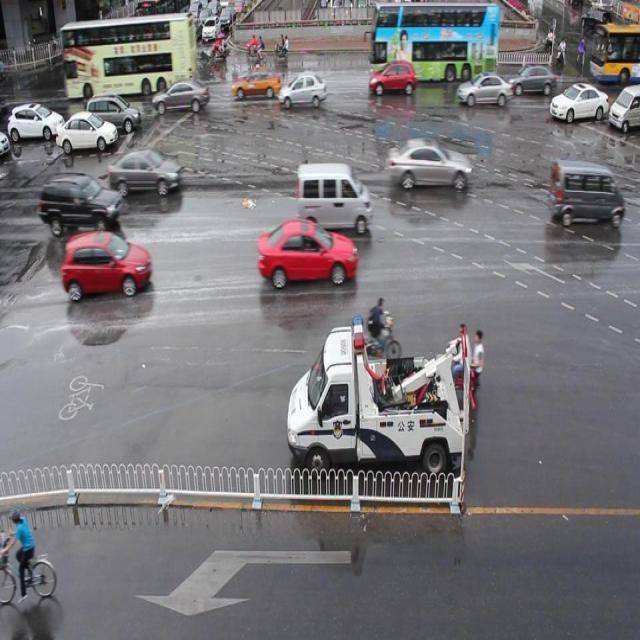car: (256, 220, 356, 288), (62, 230, 151, 300), (385, 136, 472, 196), (40, 173, 123, 234), (107, 148, 180, 198), (546, 83, 608, 124), (277, 70, 327, 110), (455, 72, 510, 108), (153, 79, 208, 114), (369, 59, 417, 97), (230, 67, 278, 101), (508, 63, 554, 97)
truck: (295, 162, 370, 235), (549, 159, 622, 227)
van: (371, 1, 496, 81)
